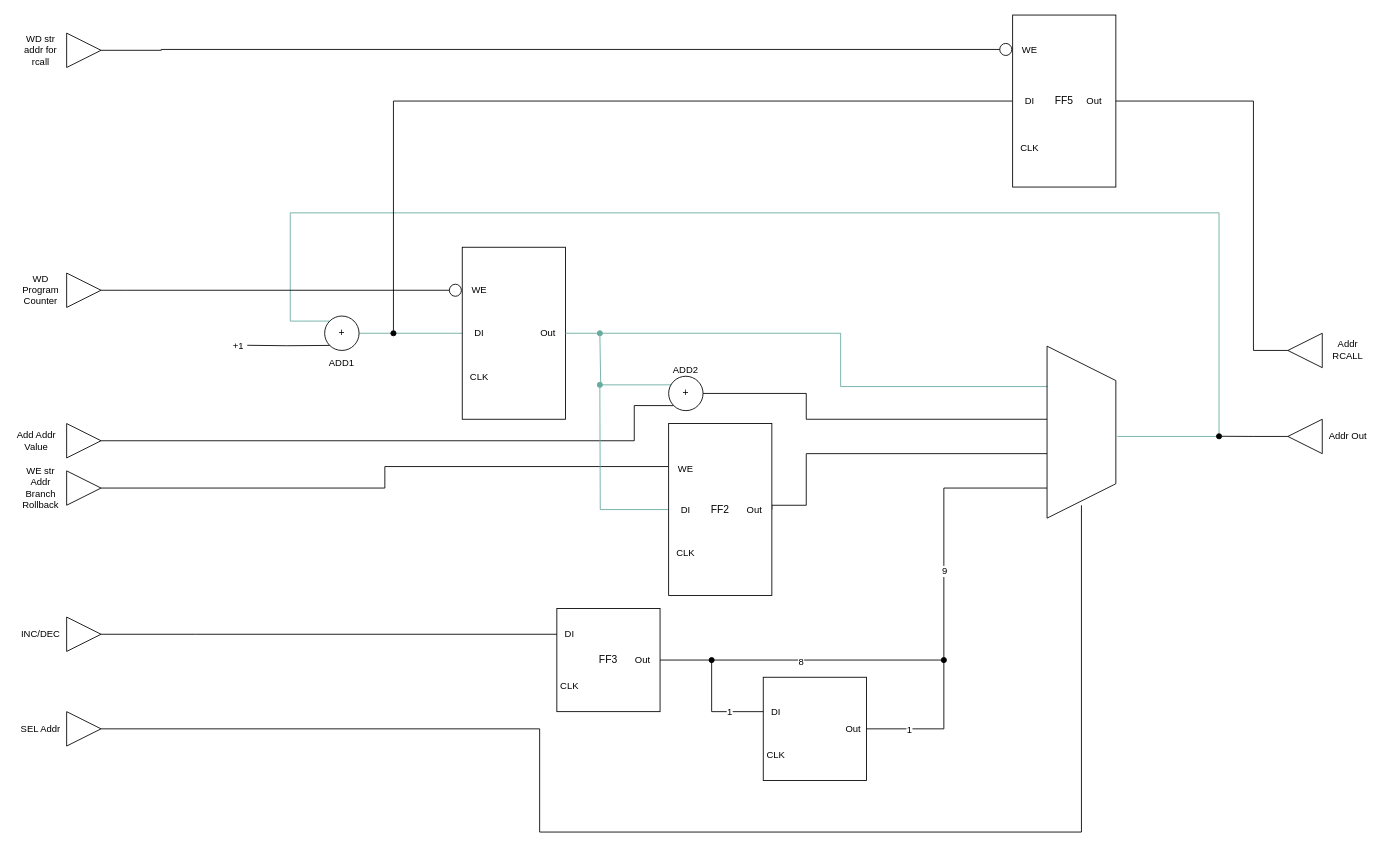
Image size: 1388x848. Some labels were removed from this diagram. The shapes that lost their labels are listed below. From the top down, each one's box as (x1, y1, x2, y2) in pixels, then its label:
(461, 246, 565, 419): FF1
(762, 676, 866, 780): FF4
